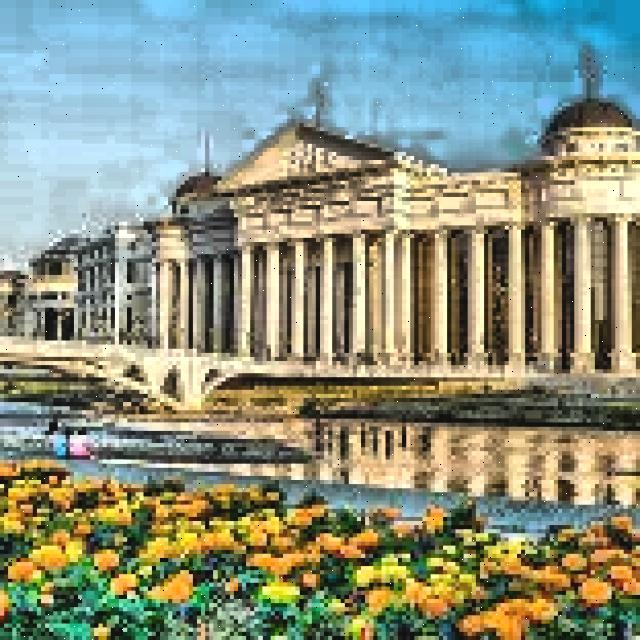stone bridge: (0, 343, 586, 409)
